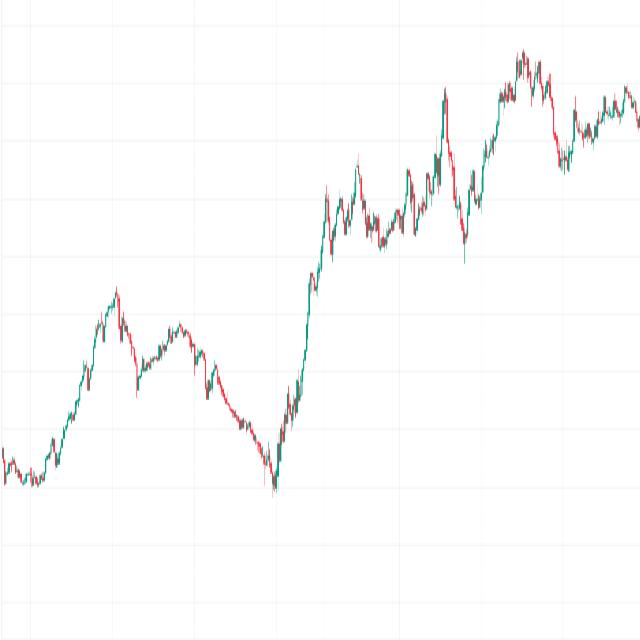Ascending-Triangle: (178, 29, 637, 630), (548, 81, 627, 204)
Rounding-Bottom: (357, 166, 409, 255)
